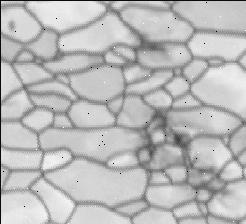good_void: (129, 27, 164, 59), (167, 128, 196, 150), (3, 18, 18, 33)
